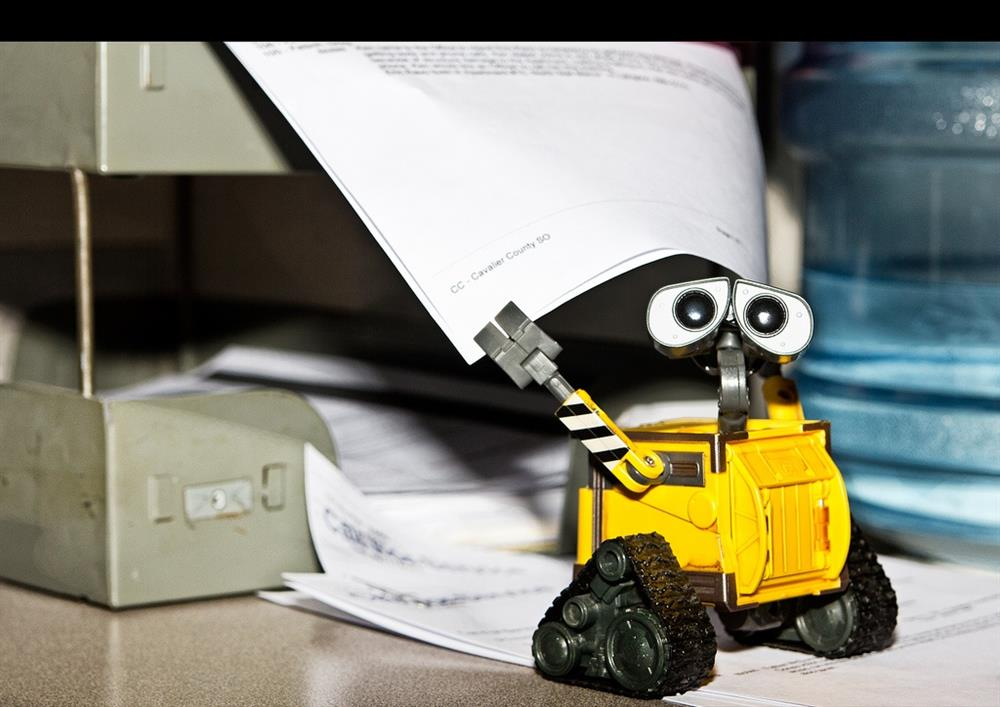walle: (473, 273, 895, 696)
